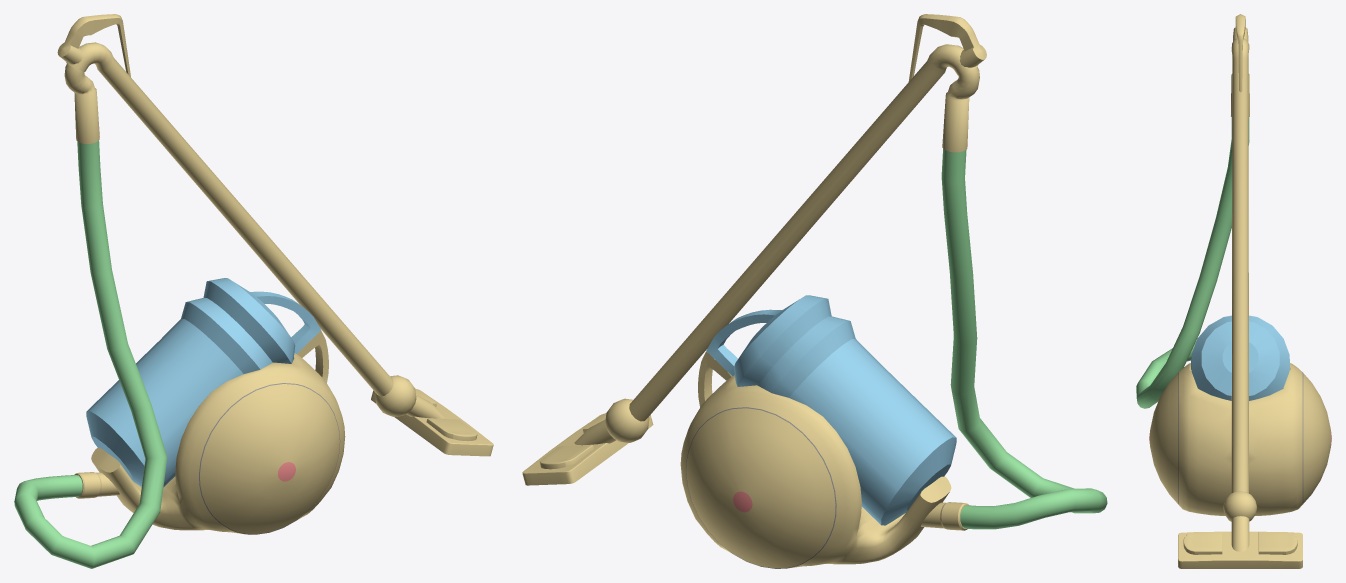
Rendered from DysonCineticBigBall.FBX.
3 renders of one model, left to right at view 1: azimuth 30°, elevation 25°; view 2: azimuth 150°, elevation 25°; view 3: azimuth 270°, elevation 25°, orthographic. The views are drawn at different scales.
Parts seen in each view (by area): view 1: Body, Container, Spray, Sleeve; view 2: Body, Container, Spray, Sleeve; view 3: Body, Spray, Container, Sleeve.
Part boxes in pixels (left/top/right/bottom): Body: left=74, top=331, right=345, bottom=534; Container: left=86, top=278, right=321, bottom=487; Spray: left=57, top=14, right=493, bottom=456; Sleeve: left=14, top=140, right=167, bottom=568; Body: left=680, top=351, right=968, bottom=568; Container: left=706, top=295, right=956, bottom=525; Spray: left=522, top=14, right=986, bottom=485; Sleeve: left=941, top=148, right=1107, bottom=529; Body: left=1149, top=363, right=1331, bottom=515; Spray: left=1178, top=14, right=1302, bottom=568; Container: left=1191, top=315, right=1289, bottom=400; Sleeve: left=1136, top=117, right=1249, bottom=408.
Size of the model in its own units: 0.973 by 1.04 by 0.4332.
